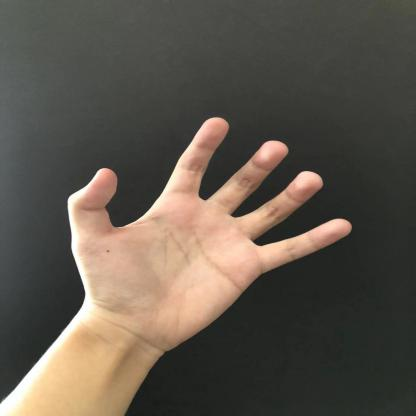palm: (38, 74, 360, 360)
